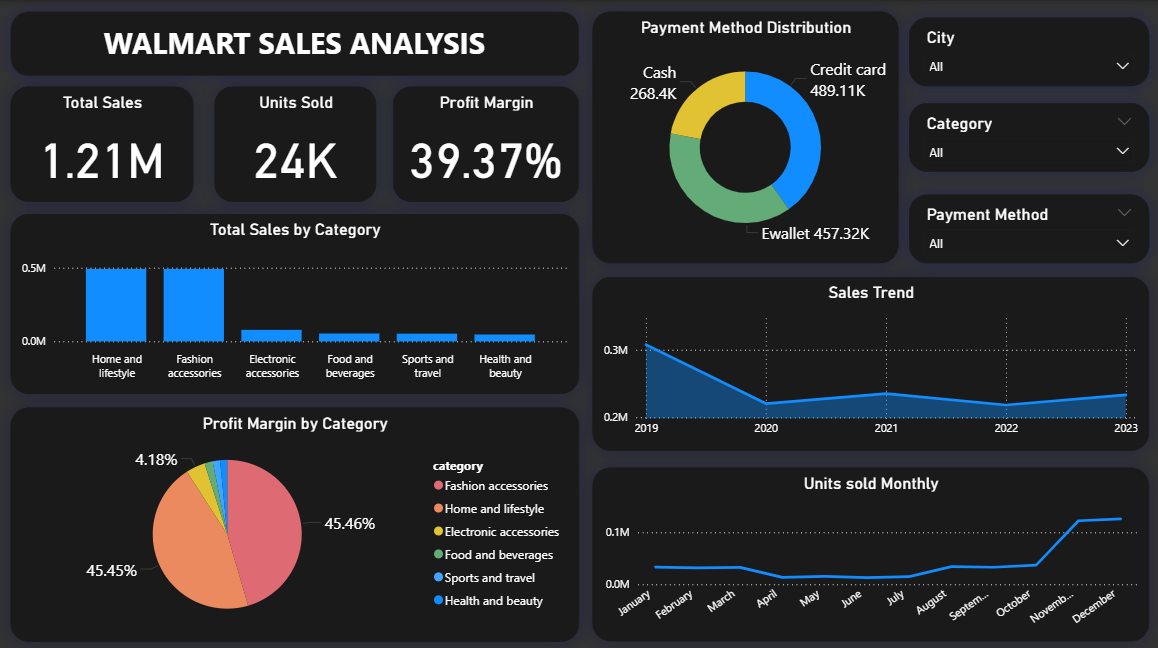

The dashboard page shown, as its layout file describes it:
{"tool":"powerbi","page":{"name":"Page 1","canvas":[1280,720],"ordinal":0},"visuals":[{"type":"donutChart","title":"Payment Method Distribution","fields":{"Category":["Walmart_cleaned_data.payment_method"],"Y":["Sum(Walmart_cleaned_data.total_price)"]},"box":[654.3,11.6,337.9,278.3],"z":0},{"type":"columnChart","title":"Total Sales by Category","fields":{"Category":["Walmart_cleaned_data.category"],"Y":["Sum(Walmart_cleaned_data.total_price)"]},"box":[11.6,235.2,627.8,198.8],"z":1000},{"type":"areaChart","title":"Sales Trend","fields":{"Category":["Walmart_cleaned_data.date.Variation.Date Hierarchy.Year"],"Y":["Sum(Walmart_cleaned_data.total_price)"]},"box":[654.3,304.8,614.6,192.2],"z":2000},{"type":"pieChart","title":"Profit Margin by Category","fields":{"Y":["Sum(Walmart_cleaned_data.profit_margin)"],"Category":["Walmart_cleaned_data.category"]},"box":[11.6,448.9,627.8,258.4],"z":3000},{"type":"lineChart","title":"Units sold Monthly","fields":{"Category":["Walmart_cleaned_data.date.Variation.Date Hierarchy.Month"],"Y":["Sum(Walmart_cleaned_data.unit_price)"]},"box":[654.3,515.2,614.6,192.2],"z":4000},{"type":"card","title":"Total Sales","fields":{"Values":["Sum(Walmart_cleaned_data.total_price)"]},"box":[11.6,94.4,202.1,127.5],"z":5000},{"type":"card","title":"Units Sold","fields":{"Values":["Sum(Walmart_cleaned_data.quantity)"]},"box":[236.9,94.4,178.9,127.5],"z":6000},{"type":"card","title":"Profit Margin","fields":{"Values":["Walmart_cleaned_data.Profit Margin"]},"box":[434,94.4,205.4,127.5],"z":7000},{"type":"slicer","fields":{"Values":["Walmart_cleaned_data.City"]},"box":[1003.8,18.2,265,76.2],"z":8000},{"type":"textbox","box":[11.6,11.6,627.8,71.2],"z":9000},{"type":"slicer","fields":{"Values":["Walmart_cleaned_data.category"]},"box":[1003.8,112.6,265,76.2],"z":9001},{"type":"slicer","fields":{"Values":["Walmart_cleaned_data.payment_method"]},"box":[1003.8,213.7,265,76.2],"z":9002}]}

Visuals, with their boxes in screenshot pixels (x1, y1, x2, y2), scaled from the page's 1280x720 canvas onto the 1158x648 screenshot:
"Payment Method Distribution" donutChart: [left=592, top=10, right=898, bottom=261]
"Total Sales by Category" columnChart: [left=10, top=212, right=578, bottom=391]
"Sales Trend" areaChart: [left=592, top=274, right=1148, bottom=447]
"Profit Margin by Category" pieChart: [left=10, top=404, right=578, bottom=637]
"Units sold Monthly" lineChart: [left=592, top=464, right=1148, bottom=637]
"Total Sales" card: [left=10, top=85, right=193, bottom=200]
"Units Sold" card: [left=214, top=85, right=376, bottom=200]
"Profit Margin" card: [left=393, top=85, right=578, bottom=200]
slicer - Walmart_cleaned_data.City: [left=908, top=16, right=1148, bottom=85]
textbox: [left=10, top=10, right=578, bottom=75]
slicer - Walmart_cleaned_data.category: [left=908, top=101, right=1148, bottom=170]
slicer - Walmart_cleaned_data.payment_method: [left=908, top=192, right=1148, bottom=261]
